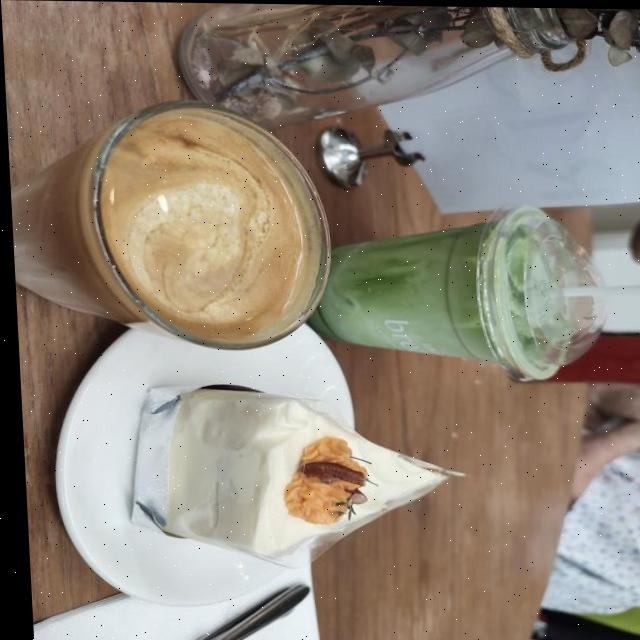cup: (313, 195, 611, 375)
